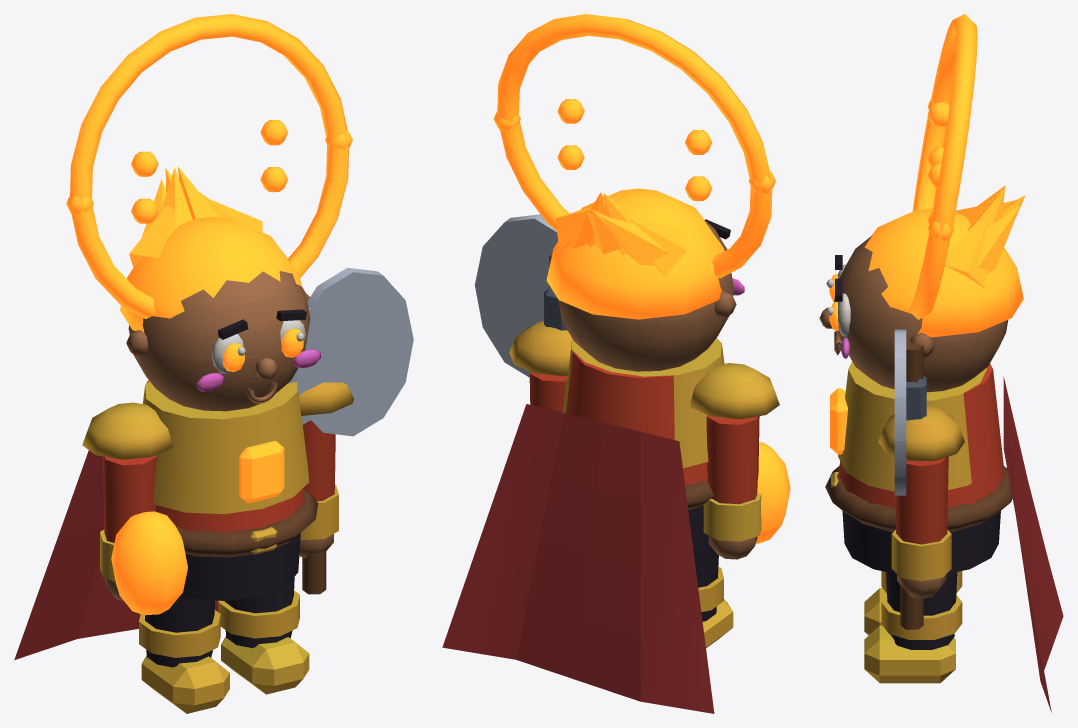
File: hero_pyros.glb
3 views of the same model, side by side, from view 1: azimuth 30°, elevation 25°; view 2: azimuth 150°, elevation 25°; view 3: azimuth 270°, elevation 25° (orthographic). The views are drawn at different scales.
Parts seen in each view (by area): view 1: body_t0_palette, armr_t0_palette, halo_t0_spinY40_bob1_fire, body_t0_fire, arml_t0_palette, legl_t0_palette, legr_t0_palette, arml_t0_fire; view 2: body_t0_palette, body_t0_fire, halo_t0_spinY40_bob1_fire, armr_t0_palette, arml_t0_palette, legl_t0_palette, arml_t0_fire; view 3: body_t0_palette, body_t0_fire, armr_t0_palette, halo_t0_spinY40_bob1_fire, legr_t0_palette, legl_t0_palette.
Boxes of the visible parts, <box> form: body_t0_palette: <box>14,271,320,659</box>; armr_t0_palette: <box>287,267,413,594</box>; halo_t0_spinY40_bob1_fire: <box>66,14,352,318</box>; body_t0_fire: <box>120,166,303,503</box>; arml_t0_palette: <box>82,402,172,601</box>; legl_t0_palette: <box>139,596,229,713</box>; legr_t0_palette: <box>218,577,309,694</box>; arml_t0_fire: <box>111,511,187,615</box>; body_t0_palette: <box>442,219,744,713</box>; body_t0_fire: <box>546,188,724,319</box>; halo_t0_spinY40_bob1_fire: <box>493,14,775,278</box>; armr_t0_palette: <box>475,214,571,412</box>; arml_t0_palette: <box>689,363,779,559</box>; legl_t0_palette: <box>693,533,733,648</box>; arml_t0_fire: <box>756,442,790,543</box>; body_t0_palette: <box>819,235,1063,712</box>; body_t0_fire: <box>829,186,1025,454</box>; armr_t0_palette: <box>878,329,964,629</box>; halo_t0_spinY40_bob1_fire: <box>908,14,977,319</box>; legr_t0_palette: <box>864,572,962,683</box>; legl_t0_palette: <box>864,571,962,635</box>.
Bounding box in the file's own units: 0.3711 × 0.7195 × 0.253.
